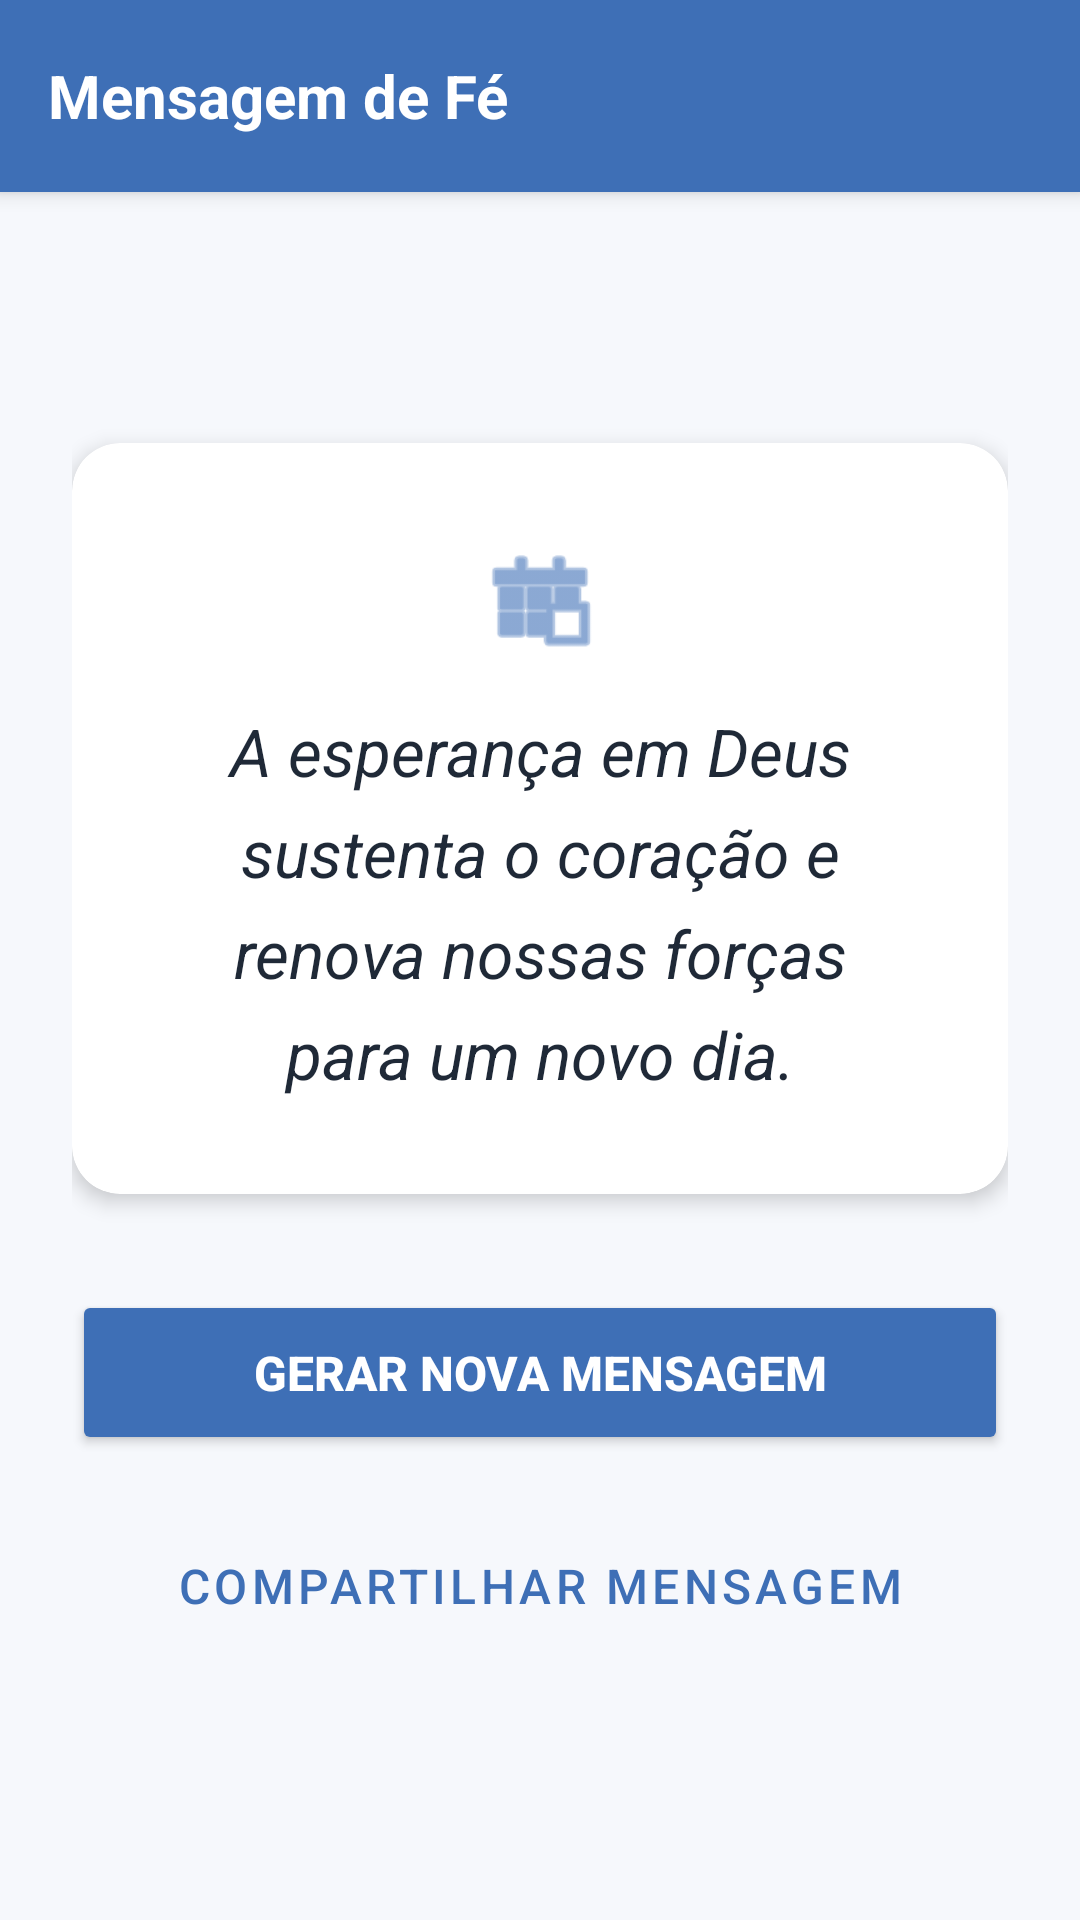

Screen size 1080px×1920px. Icon name, then its box in pixels as (x1=x1, y1=y1, x2=x2, y2=y2):
today: (x1=492, y1=555, x2=590, y2=647)
